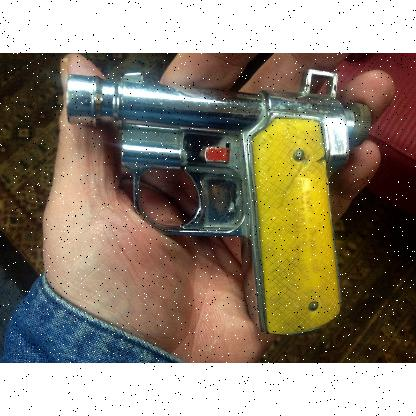gun: (66, 67, 372, 333)
